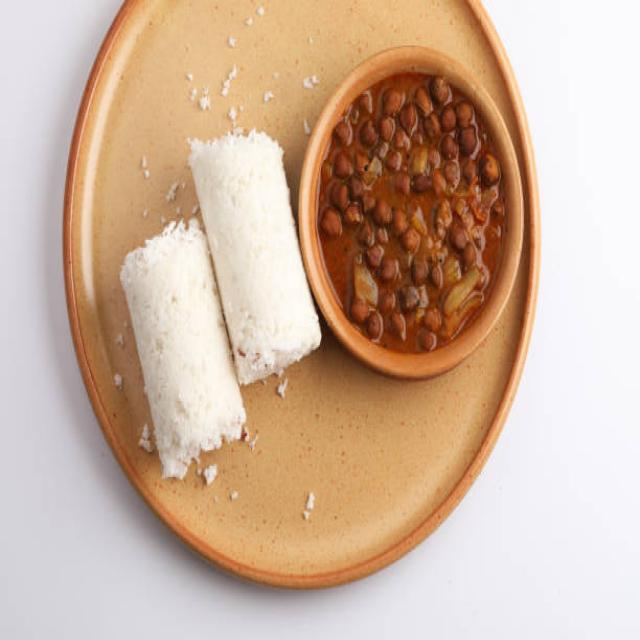CURRY: (316, 74, 510, 359)
PUTTU: (118, 124, 326, 486)
